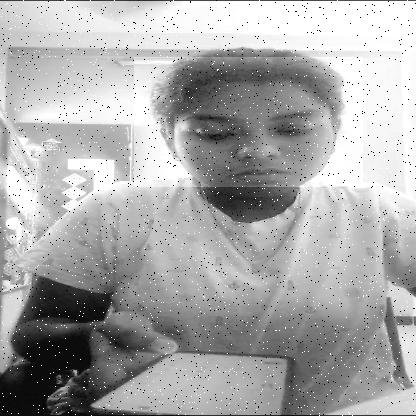Normal: (134, 58, 363, 188)
